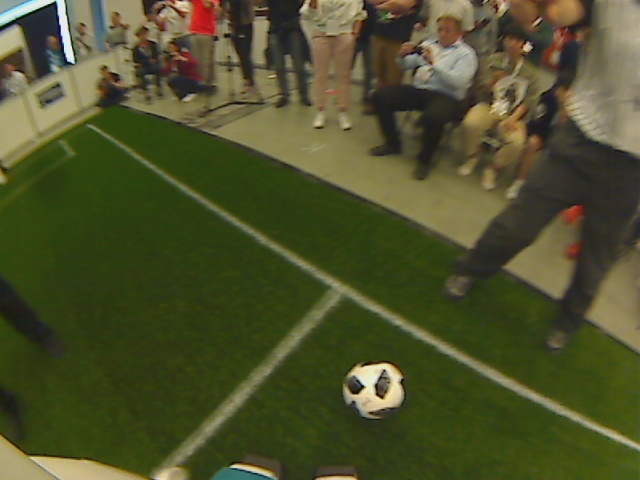ball: (340, 359, 407, 420)
